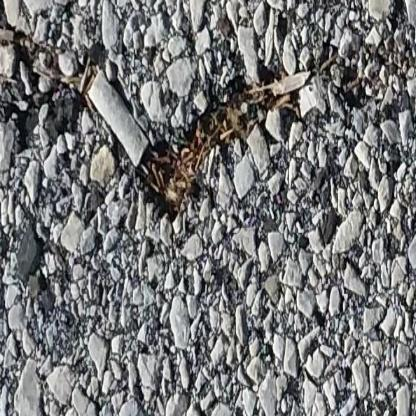Cracks: (141, 68, 301, 221), (410, 59, 416, 83)
